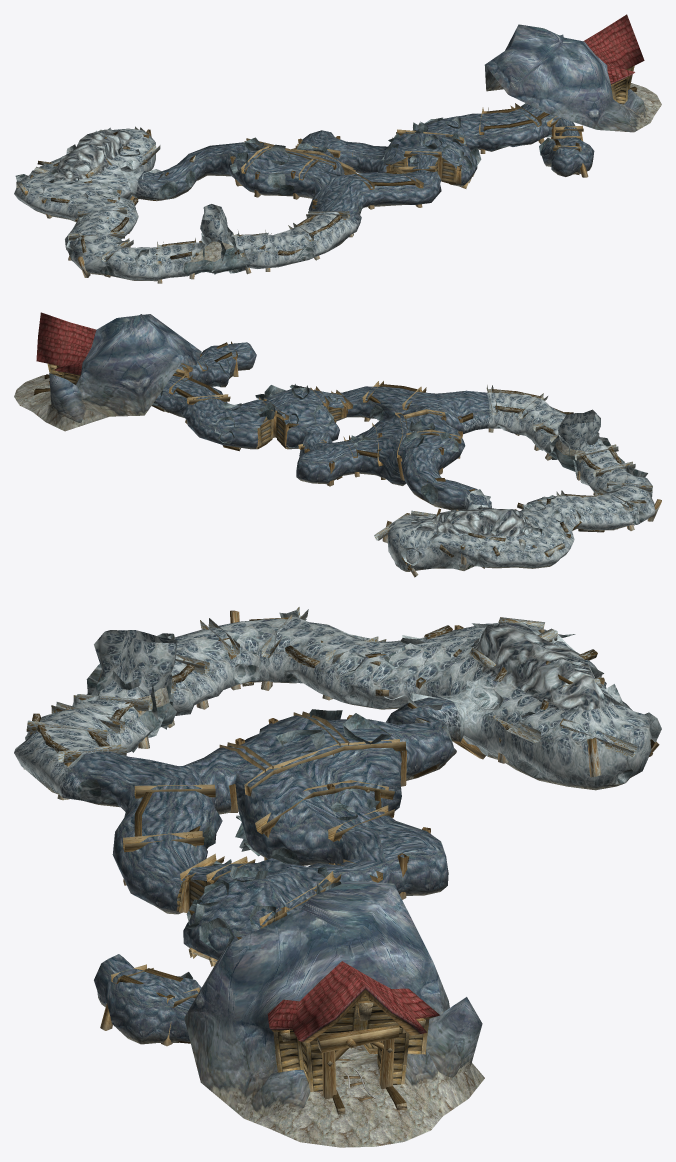
Rendered from md_spidermine.glb.
The picture shows the model from 3 angles, top to bottom: view 1: azimuth 30°, elevation 25°; view 2: azimuth 150°, elevation 25°; view 3: azimuth 270°, elevation 25°; orthographic projection. The views are drawn at different scales.
Size of the model in its own units: 187 by 34.06 by 97.52.
Materials: 24 (24 with a texture image).
